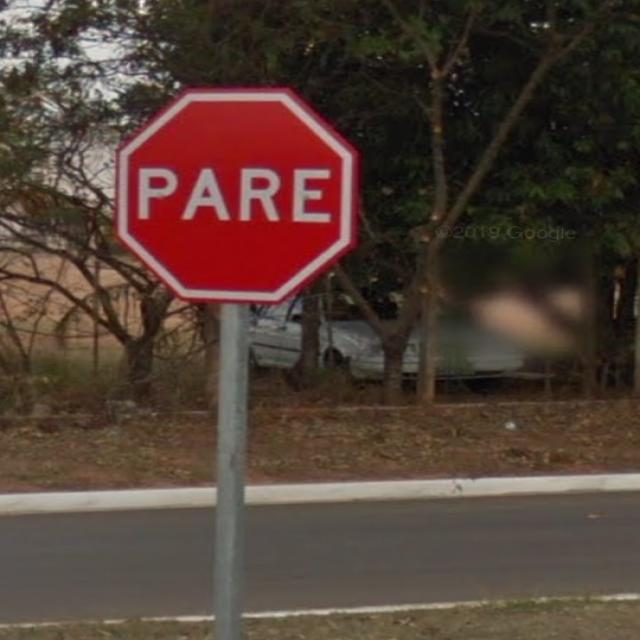stop: (79, 75, 374, 321)
